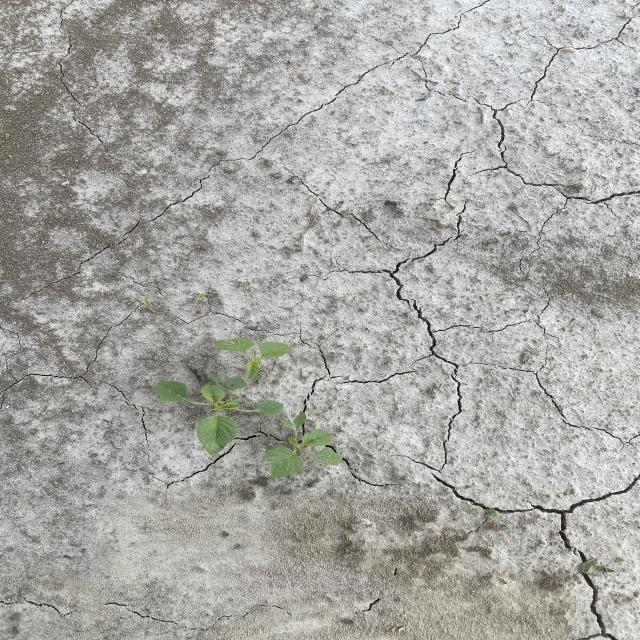PalmerAmaranth: (148, 334, 346, 480)
